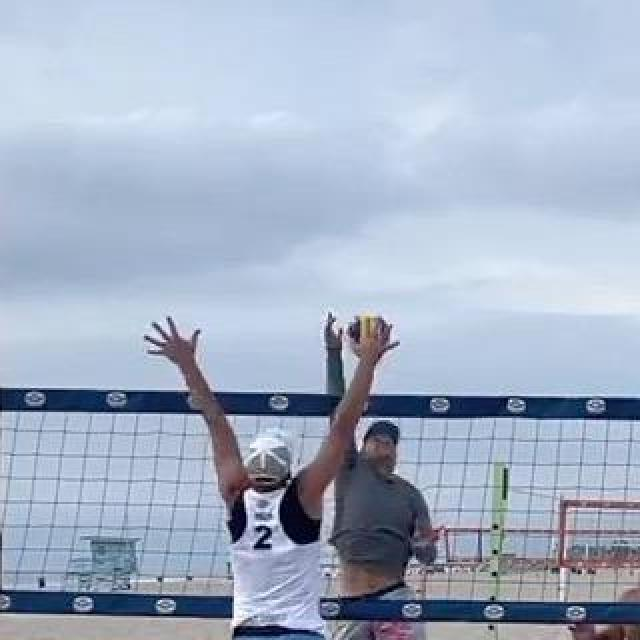volleyball: (348, 311, 390, 357)
